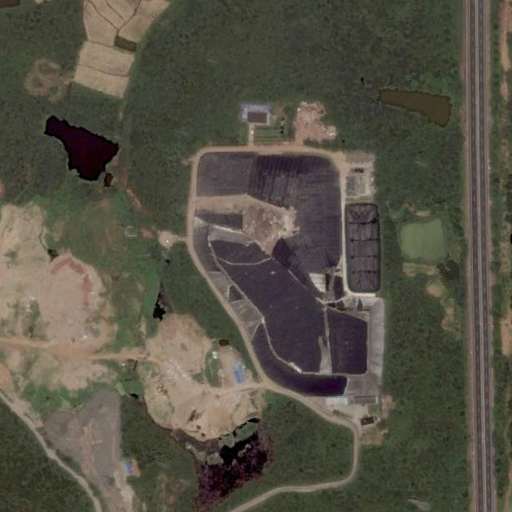lf: (194, 150, 382, 396)
